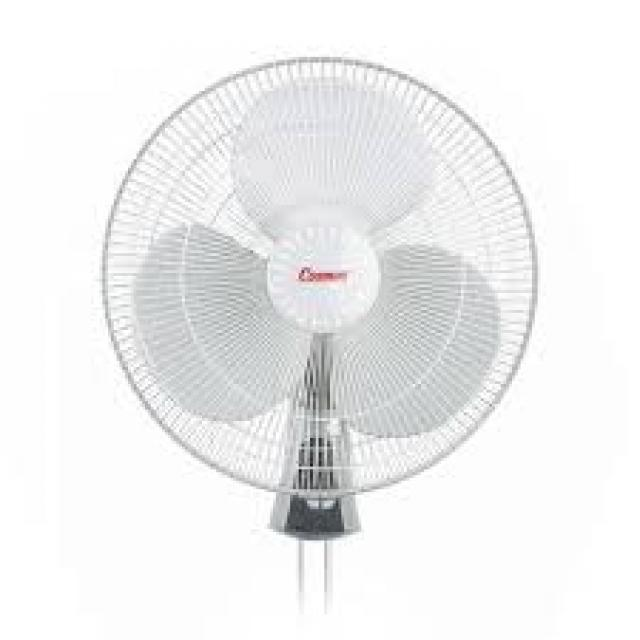fan: (85, 41, 562, 615)
